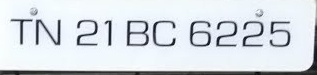character: (33, 17, 63, 47), (151, 19, 177, 48), (214, 19, 239, 49), (9, 17, 34, 46), (125, 18, 149, 48), (268, 19, 292, 49), (241, 19, 265, 48), (188, 18, 211, 48), (75, 18, 98, 47), (102, 18, 114, 47)
